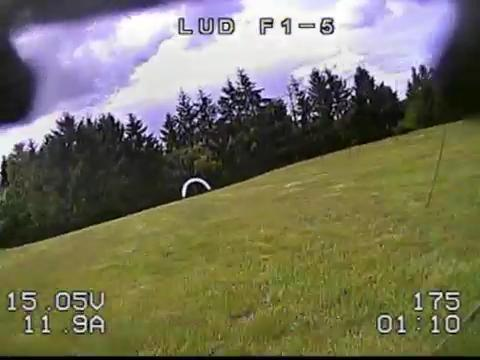gate: (179, 177, 211, 198)
